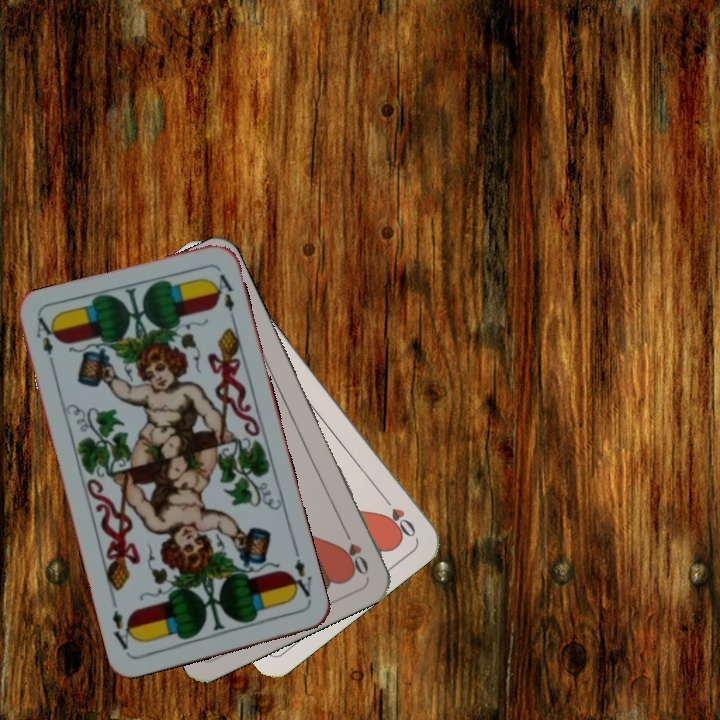EA: (284, 546, 315, 600), (32, 314, 59, 372)
HO: (377, 490, 419, 540), (338, 523, 372, 578)
